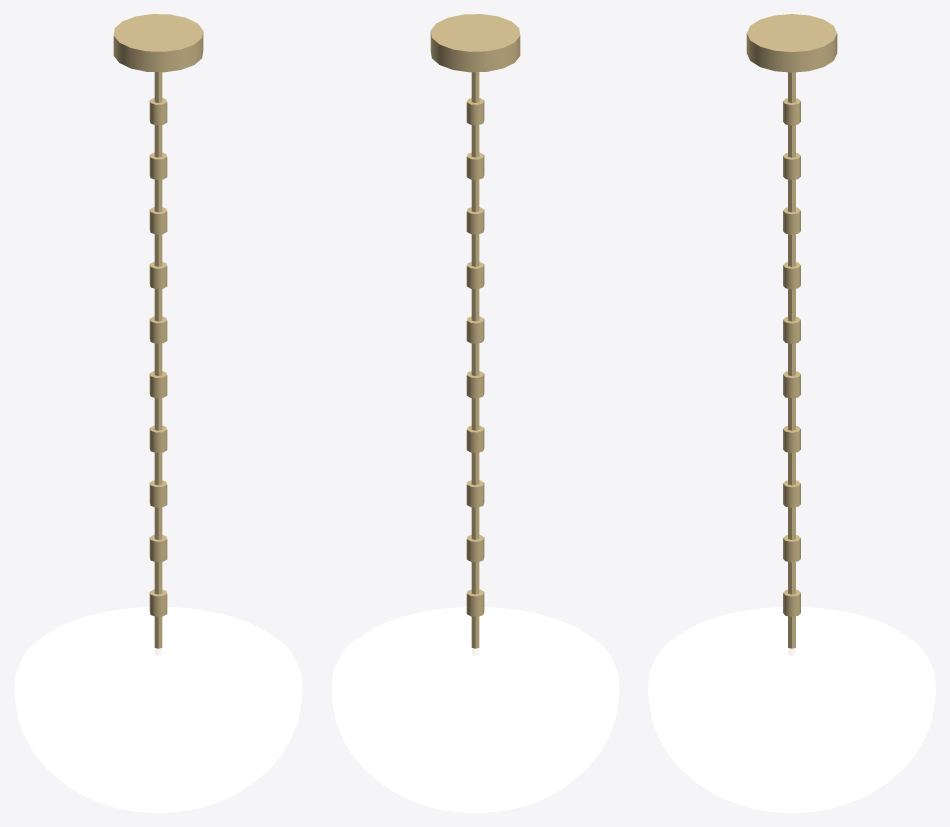
The model's file is X14_ARCH_Pendant_Lamp.glb.
3 renders of one model, left to right at view 1: azimuth 30°, elevation 25°; view 2: azimuth 150°, elevation 25°; view 3: azimuth 270°, elevation 25°, orthographic.
Parts seen in each view (by area): view 1: X14_ARCH_Pendant_Lamp_Glass_LOD0, X14_ARCH_Pendant_Lamp_LOD0; view 2: X14_ARCH_Pendant_Lamp_Glass_LOD0, X14_ARCH_Pendant_Lamp_LOD0; view 3: X14_ARCH_Pendant_Lamp_Glass_LOD0, X14_ARCH_Pendant_Lamp_LOD0.
Part boxes in pixels (x1,y1,x2,y2): X14_ARCH_Pendant_Lamp_Glass_LOD0: (14, 607, 302, 812); X14_ARCH_Pendant_Lamp_LOD0: (113, 14, 203, 648); X14_ARCH_Pendant_Lamp_Glass_LOD0: (331, 607, 619, 812); X14_ARCH_Pendant_Lamp_LOD0: (430, 14, 520, 648); X14_ARCH_Pendant_Lamp_Glass_LOD0: (648, 607, 935, 812); X14_ARCH_Pendant_Lamp_LOD0: (746, 14, 837, 648).
Size of what is drawn, in the model's own units: 0.3824 by 1.1 by 0.3824.
